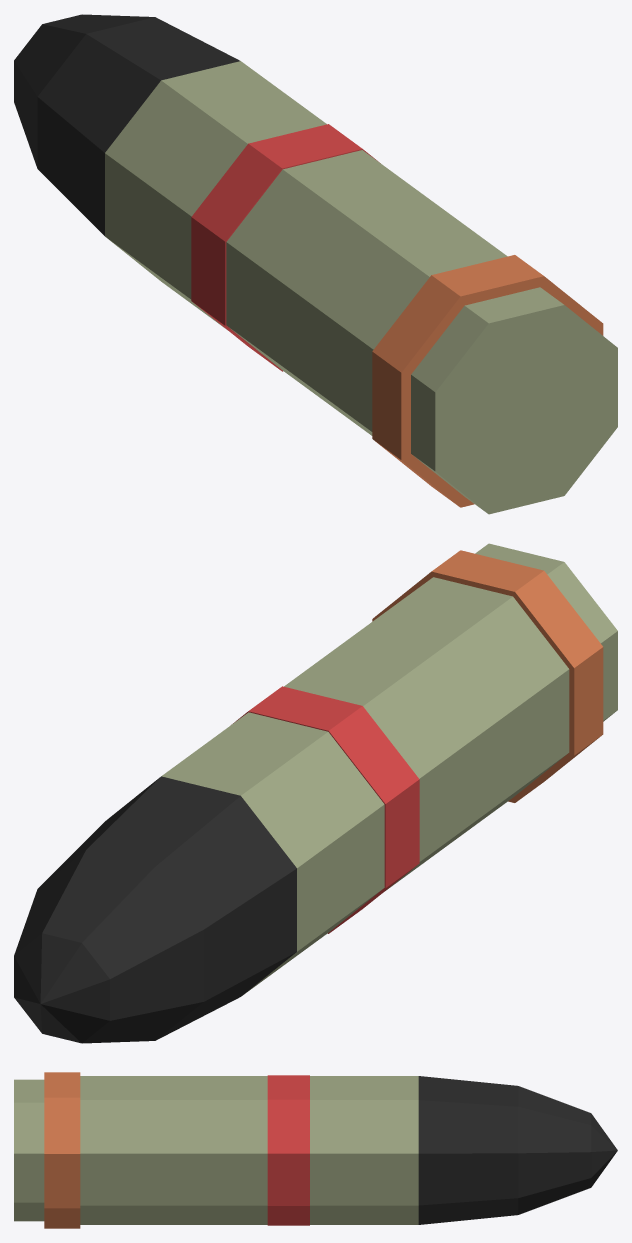
File: ce_ammo_artillery_ab_a.obj
3 renders of one model, top to bottom at view 1: azimuth 30°, elevation 25°; view 2: azimuth 150°, elevation 25°; view 3: azimuth 270°, elevation 25°, orthographic. The views are drawn at different scales.
Parts seen in each view (by area): view 1: ce_ammo_artillery_ab_a_2, ce_ammo_artillery_ab_a_0, ce_ammo_artillery_ab_a_4, ce_ammo_artillery_ab_a_5, ce_ammo_artillery_ab_a_1, ce_ammo_artillery_ab_a_3, ce_ammo_artillery_ab_a_6; view 2: ce_ammo_artillery_ab_a_2, ce_ammo_artillery_ab_a_5, ce_ammo_artillery_ab_a_4, ce_ammo_artillery_ab_a_6, ce_ammo_artillery_ab_a_1, ce_ammo_artillery_ab_a_3, ce_ammo_artillery_ab_a_7, ce_ammo_artillery_ab_a_0; view 3: ce_ammo_artillery_ab_a_2, ce_ammo_artillery_ab_a_4, ce_ammo_artillery_ab_a_5, ce_ammo_artillery_ab_a_6, ce_ammo_artillery_ab_a_3, ce_ammo_artillery_ab_a_1, ce_ammo_artillery_ab_a_0, ce_ammo_artillery_ab_a_7.
Part boxes in pixels (x1,y1,x2,y2): ce_ammo_artillery_ab_a_2: (226, 150, 507, 435); ce_ammo_artillery_ab_a_0: (411, 287, 617, 514); ce_ammo_artillery_ab_a_4: (105, 61, 326, 328); ce_ammo_artillery_ab_a_5: (37, 17, 239, 235); ce_ammo_artillery_ab_a_1: (372, 255, 603, 507); ce_ammo_artillery_ab_a_3: (191, 124, 380, 371); ce_ammo_artillery_ab_a_6: (14, 14, 154, 168); ce_ammo_artillery_ab_a_2: (284, 577, 569, 890); ce_ammo_artillery_ab_a_5: (39, 776, 296, 1040); ce_ammo_artillery_ab_a_4: (161, 712, 384, 994); ce_ammo_artillery_ab_a_6: (14, 850, 203, 1043); ce_ammo_artillery_ab_a_1: (372, 550, 603, 802); ce_ammo_artillery_ab_a_3: (231, 686, 419, 933); ce_ammo_artillery_ab_a_7: (14, 933, 109, 1043); ce_ammo_artillery_ab_a_0: (475, 543, 617, 721); ce_ammo_artillery_ab_a_2: (80, 1076, 267, 1224); ce_ammo_artillery_ab_a_4: (310, 1076, 418, 1224); ce_ammo_artillery_ab_a_5: (418, 1076, 518, 1224); ce_ammo_artillery_ab_a_6: (518, 1086, 591, 1214); ce_ammo_artillery_ab_a_3: (267, 1075, 309, 1225); ce_ammo_artillery_ab_a_1: (44, 1072, 80, 1228); ce_ammo_artillery_ab_a_0: (14, 1079, 44, 1221); ce_ammo_artillery_ab_a_7: (591, 1113, 617, 1187).
Bounding box in the file's own units: 0.2134 × 0.2134 × 0.89.
